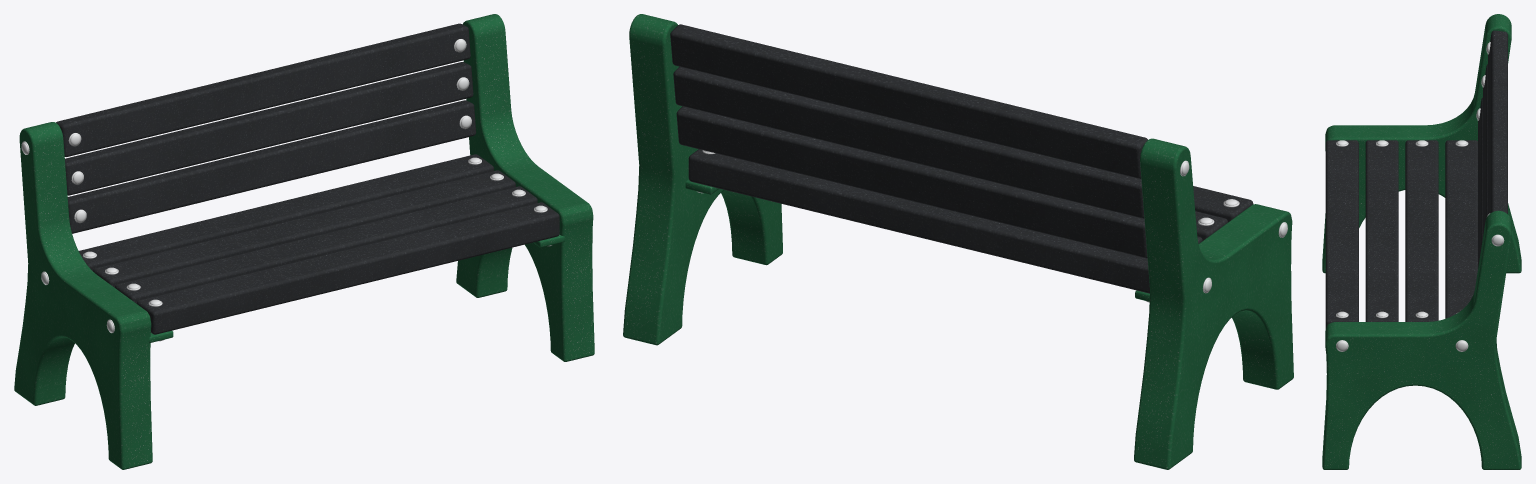
Rendered from banca-claude-texturas-v2.glb.
3 renders of one model, left to right at view 1: azimuth 30°, elevation 25°; view 2: azimuth 150°, elevation 25°; view 3: azimuth 270°, elevation 25°, orthographic. The views are drawn at different scales.
Visible parts, largest first — view 1: Claude | Soporte izquierdo, Claude | Soporte derecho, Claude | Asiento listón 01, Claude | Respaldo listón 03, Claude | Respaldo listón 02, Claude | Respaldo listón 01, Claude | Asiento listón 03, Claude | Asiento listón 02, Claude | Asiento listón 04; view 2: Claude | Soporte izquierdo, Claude | Soporte derecho, Claude | Respaldo listón 03, Claude | Respaldo listón 02, Claude | Respaldo listón 01, Claude | Asiento listón 04, Claude | Asiento listón 01; view 3: Claude | Soporte derecho, Claude | Asiento listón 01, Claude | Soporte izquierdo, Claude | Asiento listón 02, Claude | Asiento listón 03, Claude | Asiento listón 04, Claude | Respaldo listón 03, Claude | Respaldo listón 02, Claude | Respaldo listón 01.
Part boxes in pixels (x1,y1,x2,y2): Claude | Soporte izquierdo: [14, 122, 152, 469]; Claude | Soporte derecho: [456, 14, 594, 361]; Claude | Asiento listón 01: [136, 202, 559, 334]; Claude | Respaldo listón 03: [56, 23, 470, 156]; Claude | Respaldo listón 02: [65, 62, 473, 195]; Claude | Respaldo listón 01: [67, 100, 476, 233]; Claude | Asiento listón 03: [93, 170, 515, 287]; Claude | Asiento listón 02: [115, 186, 537, 303]; Claude | Asiento listón 04: [79, 154, 493, 270]; Claude | Soporte izquierdo: [1134, 138, 1293, 469]; Claude | Soporte derecho: [623, 14, 782, 345]; Claude | Respaldo listón 03: [670, 24, 1147, 178]; Claude | Respaldo listón 02: [673, 66, 1144, 218]; Claude | Respaldo listón 01: [676, 106, 1147, 258]; Claude | Asiento listón 04: [688, 149, 1149, 293]; Claude | Asiento listón 01: [1193, 186, 1253, 222]; Claude | Soporte derecho: [1322, 210, 1521, 469]; Claude | Asiento listón 01: [1325, 140, 1358, 328]; Claude | Soporte izquierdo: [1322, 14, 1521, 273]; Claude | Asiento listón 02: [1365, 140, 1398, 321]; Claude | Asiento listón 03: [1405, 140, 1438, 321]; Claude | Asiento listón 04: [1445, 140, 1477, 318]; Claude | Respaldo listón 03: [1488, 30, 1507, 214]; Claude | Respaldo listón 02: [1483, 64, 1487, 236]; Claude | Respaldo listón 01: [1478, 97, 1482, 268].
Size of the model in its own units: 1.52 by 0.8191 by 0.5985.
3 materials, 2 textured.
